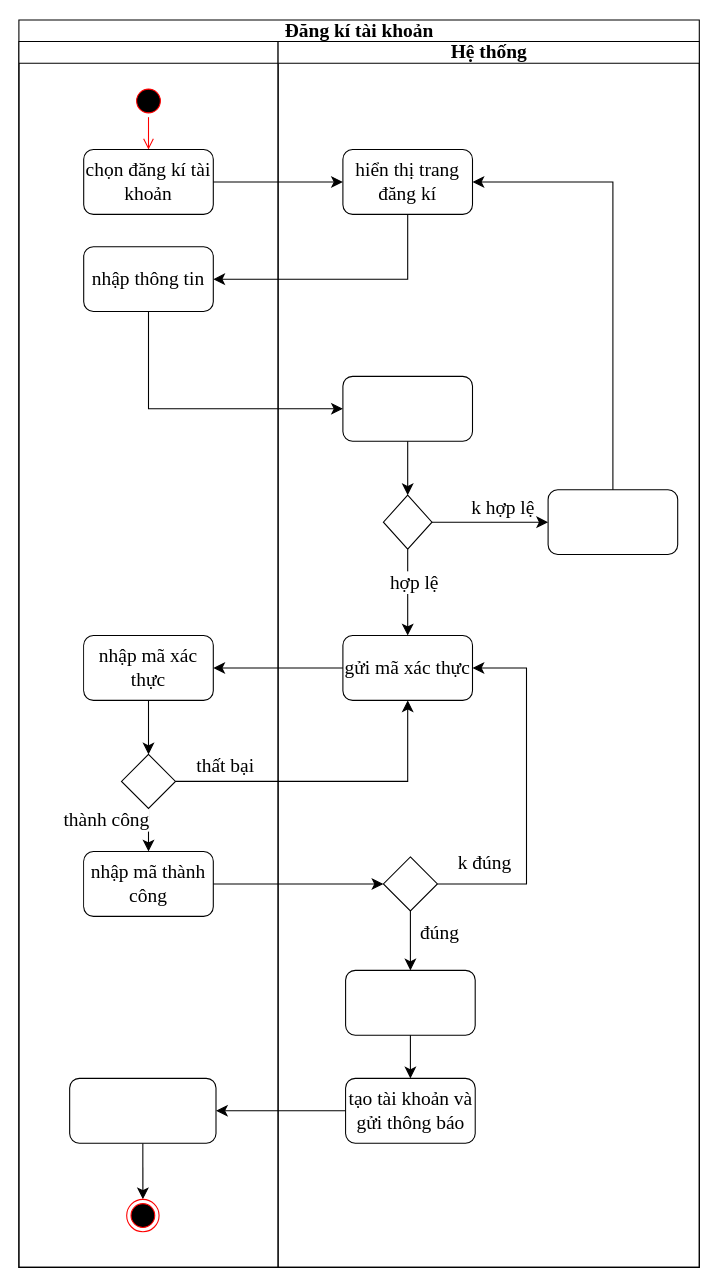
This 718x1286 diagram has some shape labels left out. The box of each missing label's shape, as (x1, y1, x2, y2) in pixels:
báo lỗi, yêu cầu nhập lại: (547, 489, 678, 555)
Khách hàng: (18, 40, 278, 1267)
kiểm tra thông tin: (342, 375, 473, 441)
nhận tài khoản và ghi nhớ thông tin: (69, 1077, 216, 1143)
xác nhận đăng kí: (345, 969, 475, 1035)
